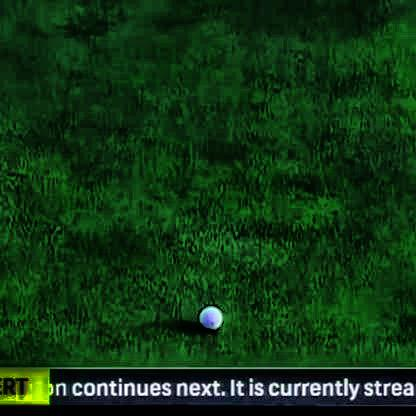golfball: (194, 298, 219, 328)
